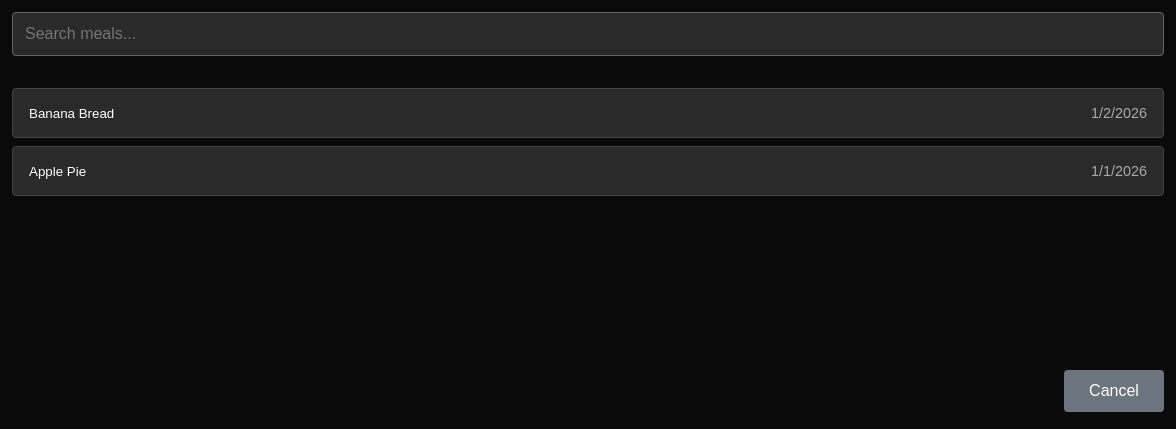
MealReuseSelector › should filter meals when searching
The width and height of the screenshot is (1176, 429).
Check: the text "Apple Pie" is shown, box [29,164,86,178]
Check: the text "Banana Bread" is shown, box [29,106,114,120]
Type "Apple" into the field with placeholder "Search meals..." at (588, 34), box [12,12,1164,56]
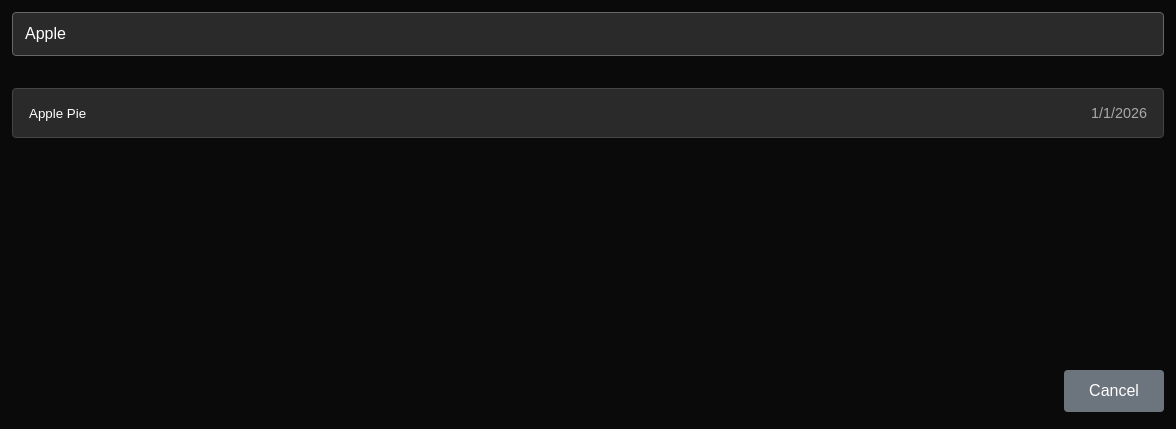
Check: the text "Apple Pie" is shown, box [29,106,86,120]
Check: the button "Banana Bread" is gone
